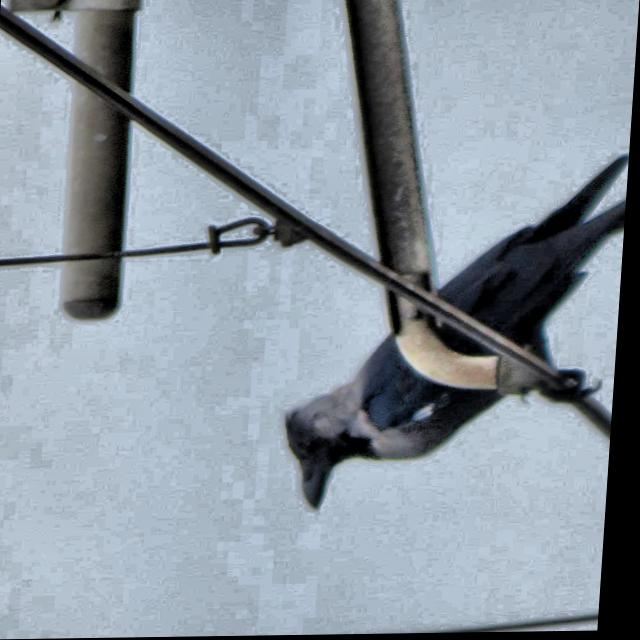crow: (276, 155, 626, 515)
